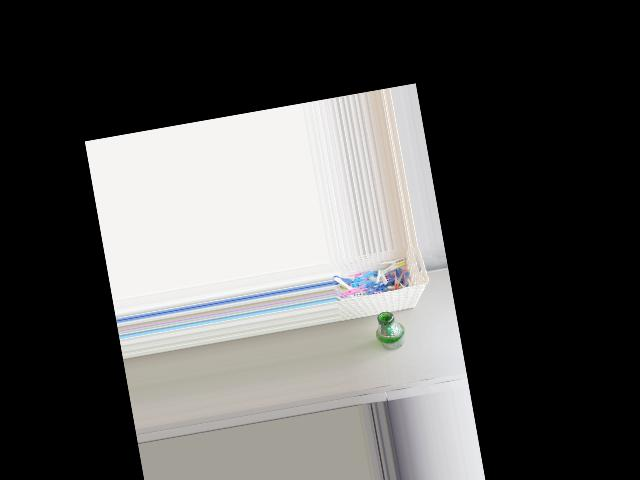beer: (372, 309, 408, 353)
